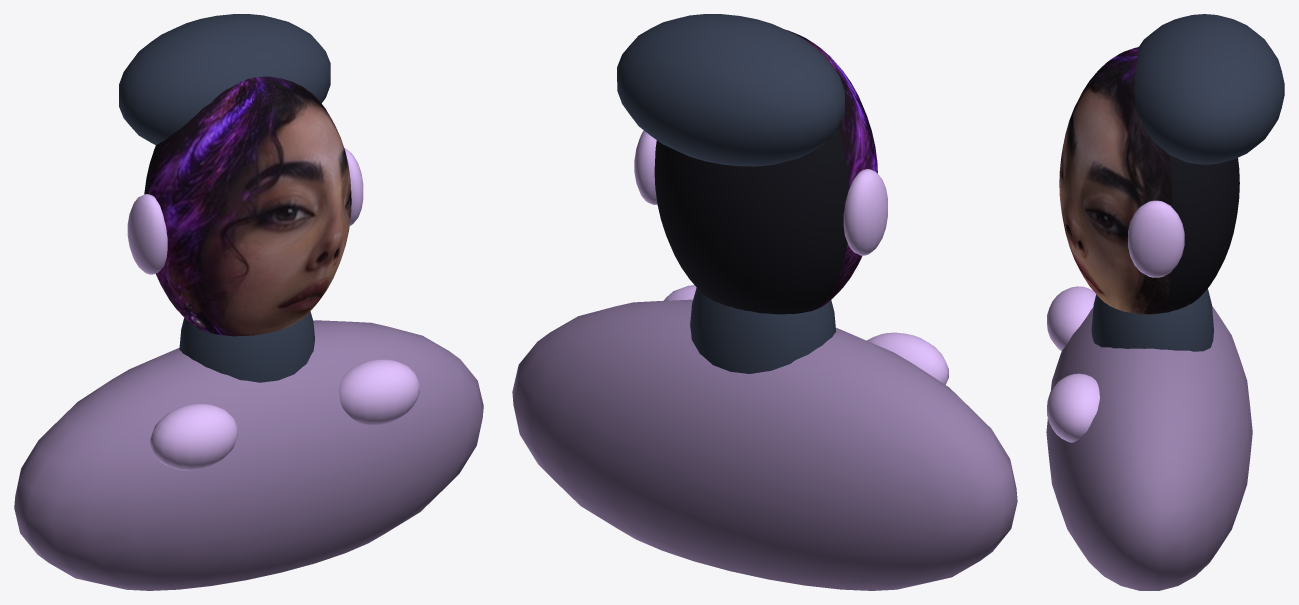
File: performer.glb
3 renders of one model, left to right at view 1: azimuth 30°, elevation 25°; view 2: azimuth 150°, elevation 25°; view 3: azimuth 270°, elevation 25°, orthographic. The views are drawn at different scales.
Size of the model in its own units: 1.61 by 1.69 by 0.7386.
4 materials, 1 textured.
